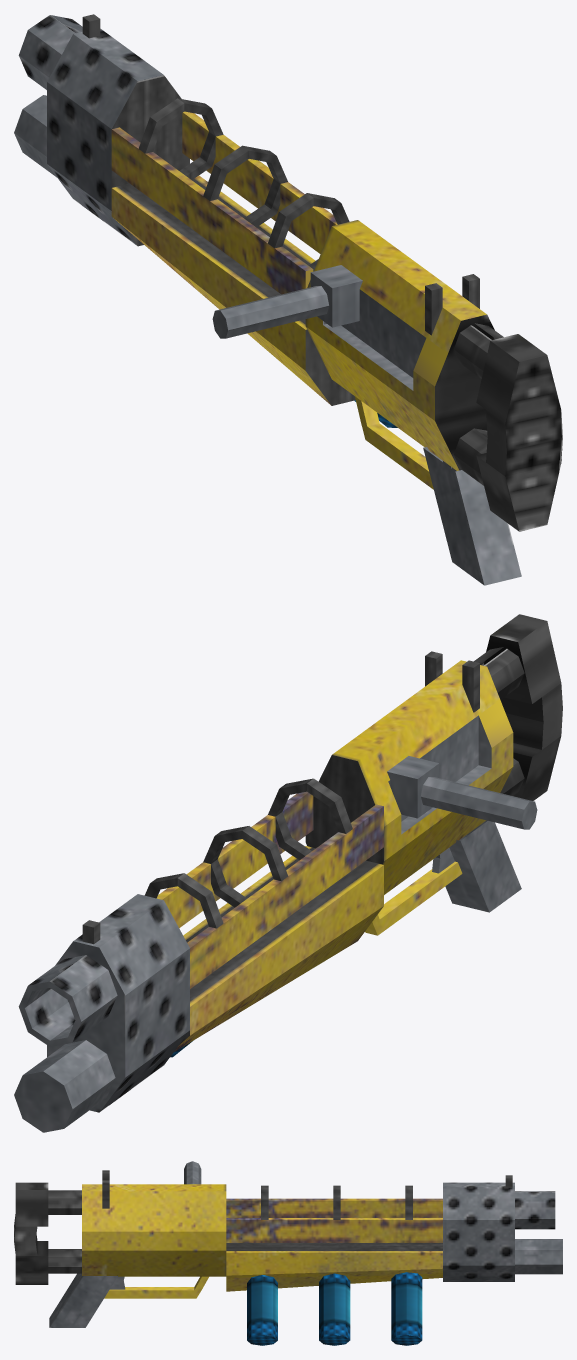
Rendered from SM_Gun.fbx.
The picture shows the model from 3 angles, top to bottom: view 1: azimuth 30°, elevation 25°; view 2: azimuth 150°, elevation 25°; view 3: azimuth 270°, elevation 25°; orthographic projection. The views are drawn at different scales.
Visible parts, largest first — view 1: Cube.010; view 2: Cube.010; view 3: Cube.010.
Boxes of the visible parts, x1=… form: Cube.010: x1=14, y1=14, x2=562, y2=585; Cube.010: x1=14, y1=614, x2=562, y2=1132; Cube.010: x1=14, y1=1161, x2=562, y2=1345.
Bounding box in the file's own units: 23.57 × 76.06 × 22.72.
Materials: 1 (1 with a texture image).
